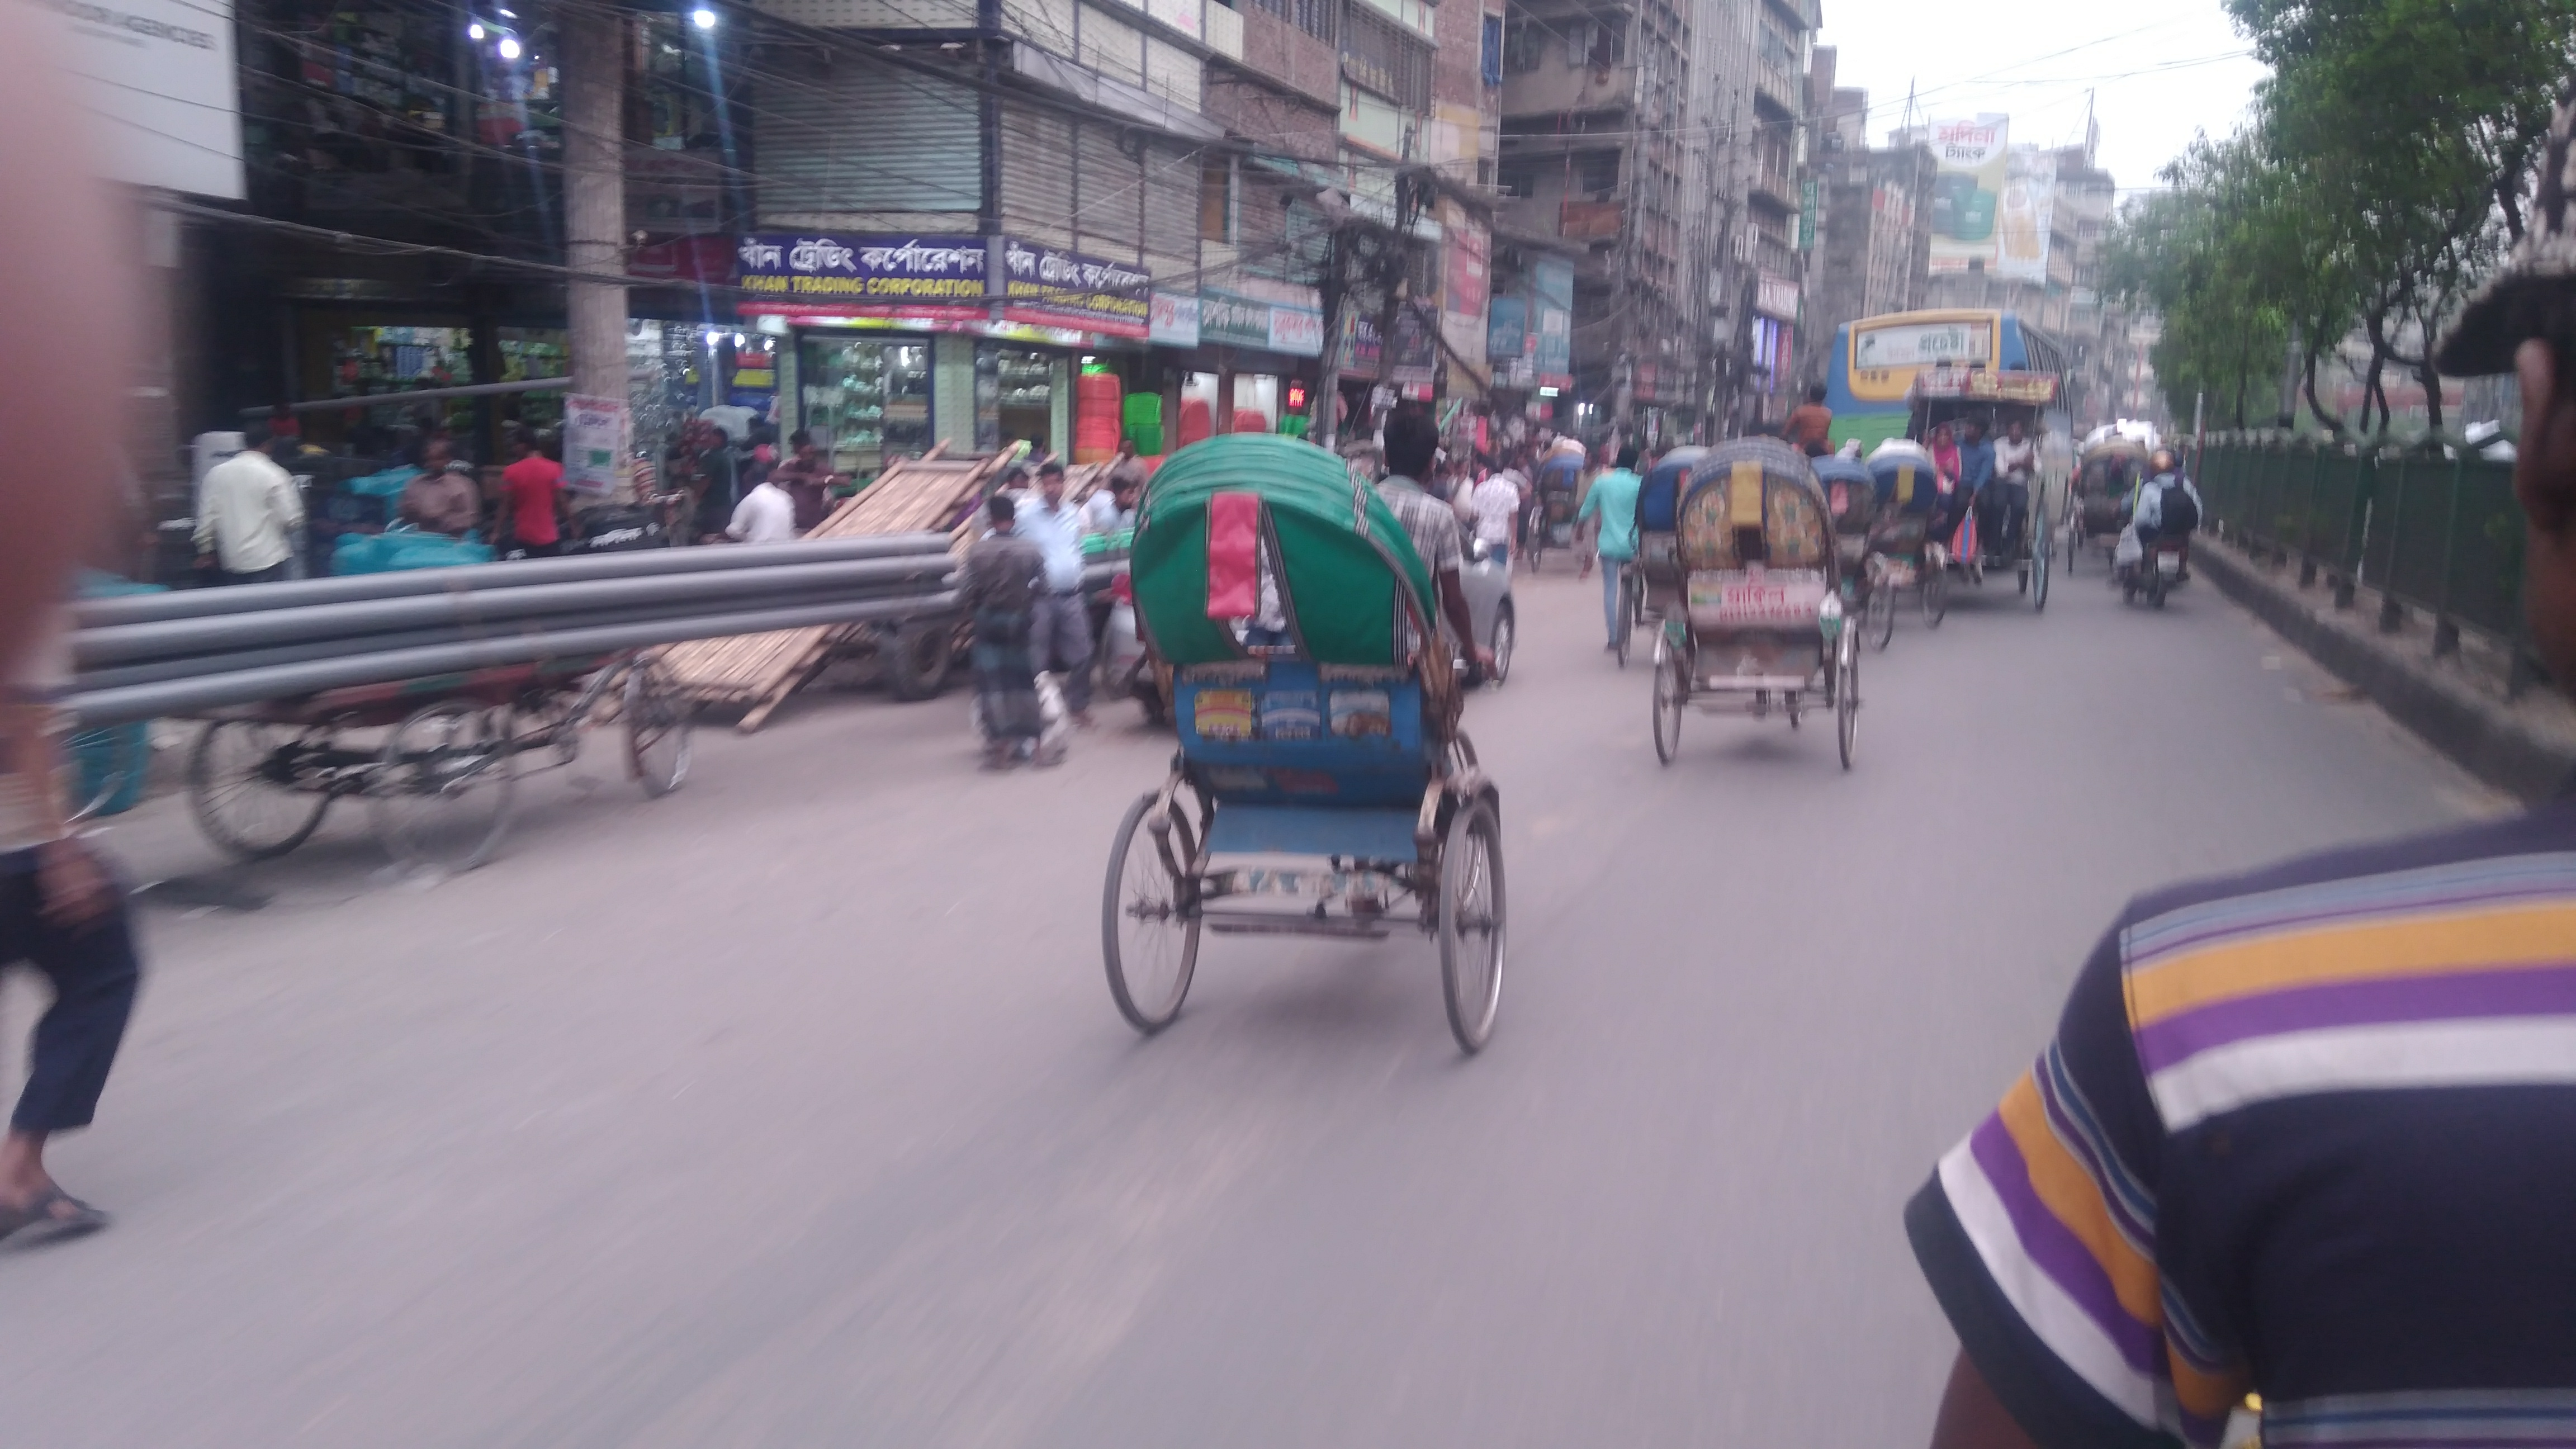Rickshaw: (1123, 407, 1518, 1044), (1658, 439, 1893, 778), (1789, 400, 1898, 639), (1861, 423, 1959, 635), (1617, 412, 1702, 642)
